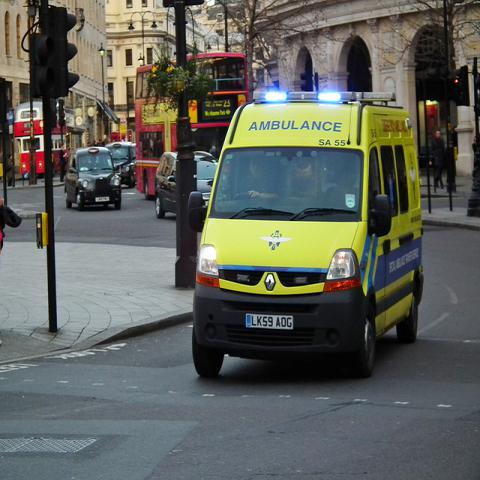bus: (134, 53, 249, 198), (14, 99, 69, 179)
car: (154, 151, 219, 219), (64, 148, 121, 208), (105, 142, 136, 183)
truck: (190, 87, 422, 382)
